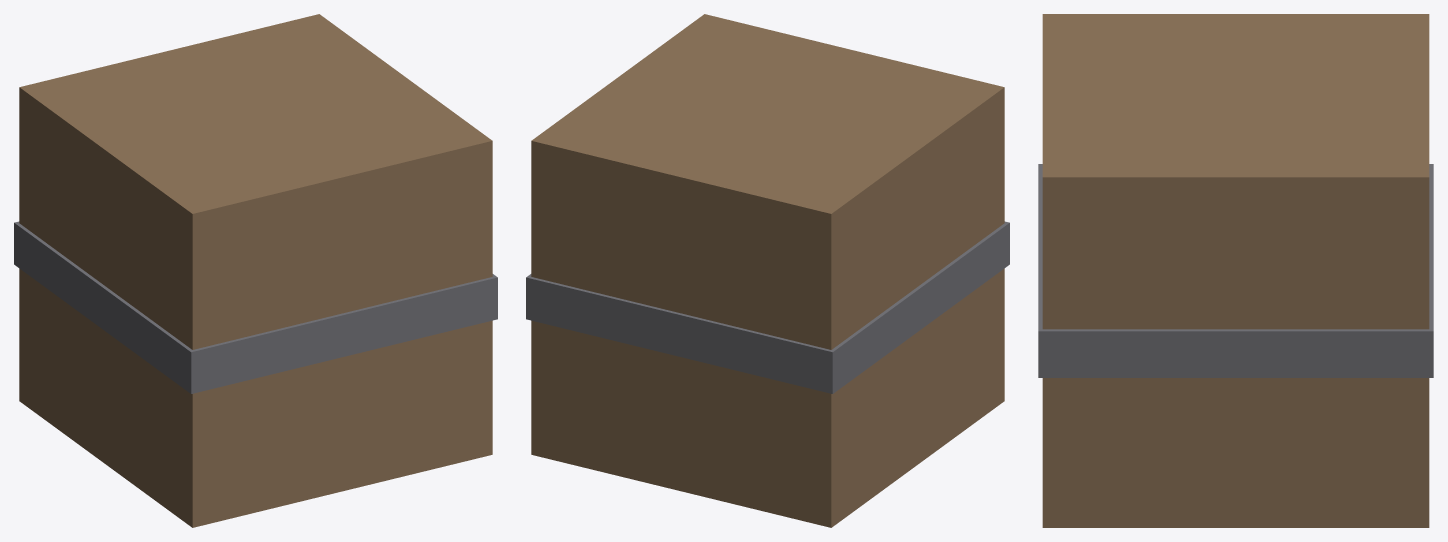
Rendered from fortress_iron_crate.glb.
3 renders of one model, left to right at view 1: azimuth 30°, elevation 25°; view 2: azimuth 150°, elevation 25°; view 3: azimuth 270°, elevation 25°, orthographic. The views are drawn at different scales.
Parts seen in each view (by area): view 1: FortressIronCrate; view 2: FortressIronCrate; view 3: FortressIronCrate.
Part boxes in pixels (<box>): FortressIronCrate: <box>14,14,497,527</box>; FortressIronCrate: <box>526,14,1009,527</box>; FortressIronCrate: <box>1038,14,1433,527</box>.
Bounding box in the file's own units: 0.92 × 0.9 × 0.92.
